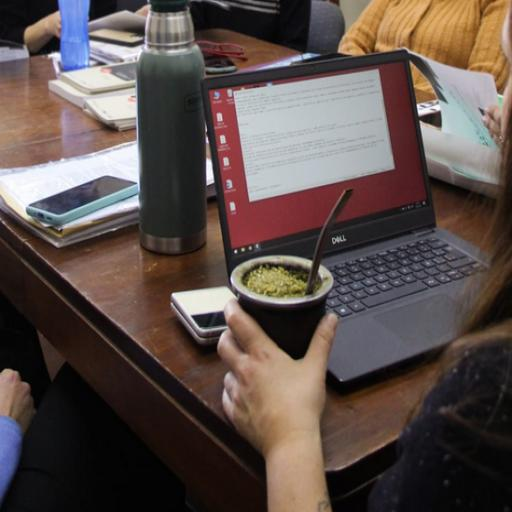mate: (227, 235, 336, 353)
termo: (135, 7, 209, 255)
